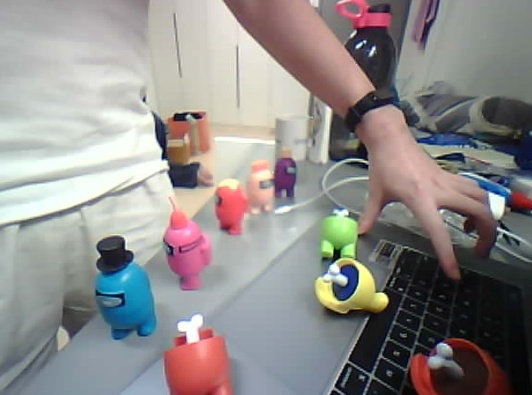alive: (92, 261, 160, 339), (161, 218, 215, 293), (213, 177, 250, 238), (244, 167, 276, 215), (272, 156, 299, 200)
